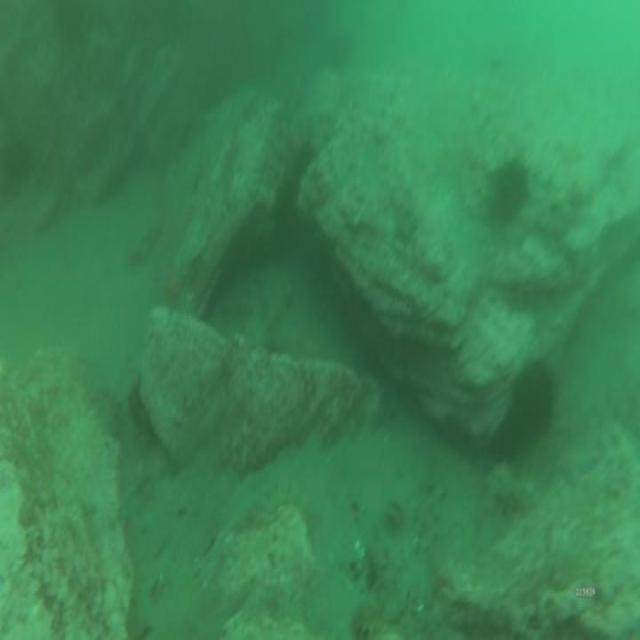echinus: (517, 368, 554, 439), (489, 162, 525, 228)
holothurian: (486, 457, 539, 520), (351, 607, 405, 640)
starfish: (556, 444, 594, 485), (154, 270, 181, 307)
